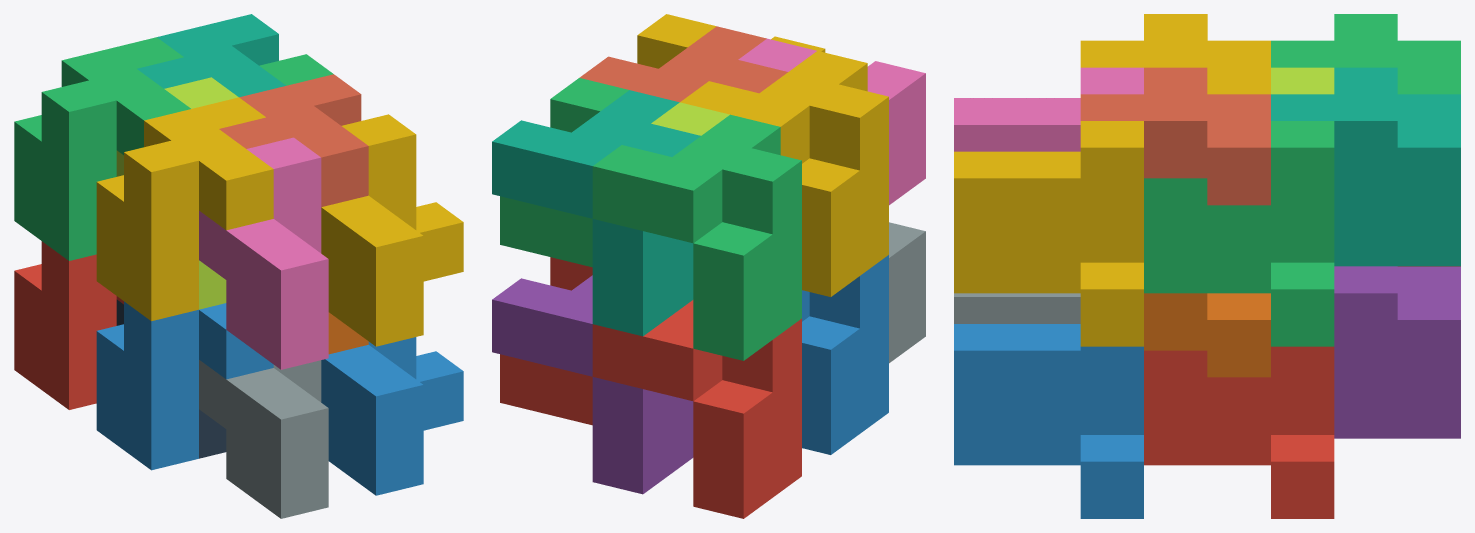
The model's file is tiling.obj.
3 views of the same model, side by side, from view 1: azimuth 30°, elevation 25°; view 2: azimuth 150°, elevation 25°; view 3: azimuth 270°, elevation 25° (orthographic). The views are drawn at different scales.
Parts seen in each view (by area): view 1: copy_1_domain_4, copy_1_domain_3, copy_2_domain_8, copy_2_domain_4, copy_1_domain_2, copy_2_domain_6, copy_2_domain_2, copy_1_domain_1, copy_1_domain_8, copy_1_domain_7, copy_2_domain_3, copy_2_domain_7 (+2 smaller); view 2: copy_1_domain_3, copy_1_domain_1, copy_1_domain_4, copy_1_domain_7, copy_1_domain_5, copy_1_domain_2, copy_1_domain_8, copy_2_domain_7, copy_2_domain_4, copy_2_domain_5, copy_2_domain_2, copy_2_domain_8 (+1 smaller); view 3: copy_2_domain_8, copy_2_domain_6, copy_2_domain_7, copy_1_domain_7, copy_2_domain_5, copy_1_domain_5, copy_1_domain_8, copy_1_domain_6, copy_1_domain_4, copy_1_domain_3, copy_2_domain_4, copy_2_domain_2 (+1 smaller).
Part boxes in pixels (x1=…): copy_1_domain_4: x1=96, y1=97, x2=273, y2=321; copy_1_domain_3: x1=14, y1=37, x2=190, y2=260; copy_2_domain_8: x1=321, y1=114, x2=463, y2=346; copy_2_domain_4: x1=199, y1=137, x2=328, y2=369; copy_1_domain_2: x1=96, y1=301, x2=273, y2=470; copy_2_domain_6: x1=321, y1=337, x2=463, y2=495; copy_2_domain_2: x1=199, y1=360, x2=328, y2=518; copy_1_domain_1: x1=14, y1=241, x2=123, y2=409; copy_1_domain_8: x1=219, y1=74, x2=368, y2=206; copy_1_domain_7: x1=137, y1=14, x2=285, y2=97; copy_2_domain_3: x1=116, y1=77, x2=238, y2=309; copy_2_domain_7: x1=259, y1=54, x2=333, y2=85; copy_1_domain_3: x1=592, y1=114, x2=801, y2=360; copy_1_domain_1: x1=592, y1=300, x2=801, y2=518; copy_1_domain_4: x1=680, y1=51, x2=888, y2=296; copy_1_domain_7: x1=492, y1=90, x2=700, y2=336; copy_1_domain_5: x1=492, y1=275, x2=693, y2=494; copy_1_domain_2: x1=802, y1=255, x2=888, y2=454; copy_1_domain_8: x1=579, y1=26, x2=787, y2=102; copy_2_domain_7: x1=500, y1=78, x2=629, y2=267; copy_2_domain_4: x1=738, y1=38, x2=925, y2=205; copy_2_domain_5: x1=500, y1=257, x2=592, y2=425; copy_2_domain_2: x1=889, y1=222, x2=925, y2=363; copy_2_domain_8: x1=637, y1=14, x2=825, y2=68; copy_2_domain_8: x1=954, y1=121, x2=1143, y2=346; copy_2_domain_6: x1=954, y1=324, x2=1143, y2=518; copy_2_domain_7: x1=1144, y1=121, x2=1334, y2=346; copy_1_domain_7: x1=1271, y1=67, x2=1460, y2=266; copy_2_domain_5: x1=1144, y1=346, x2=1334, y2=518; copy_1_domain_5: x1=1334, y1=266, x2=1460, y2=438; copy_1_domain_8: x1=1080, y1=67, x2=1270, y2=205; copy_1_domain_6: x1=1144, y1=293, x2=1270, y2=377; copy_1_domain_4: x1=1080, y1=14, x2=1270, y2=94; copy_1_domain_3: x1=1271, y1=14, x2=1460, y2=94; copy_2_domain_4: x1=954, y1=67, x2=1143, y2=151; copy_2_domain_2: x1=954, y1=293, x2=1080, y2=323.
Bounding box in the file's own units: 6 × 6 × 8.
